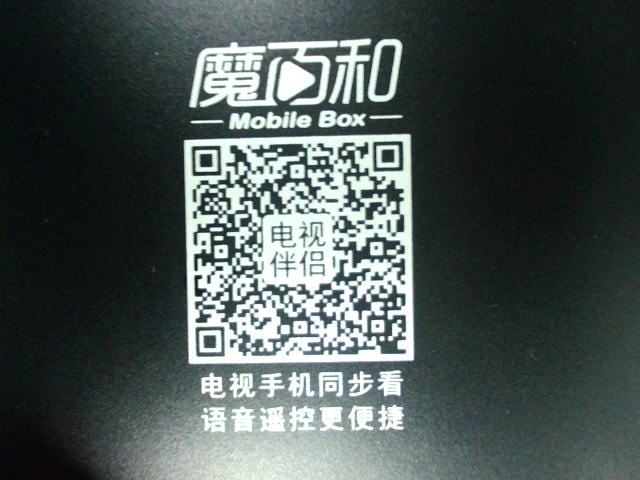AZ_MobileBox: (178, 28, 420, 434)
